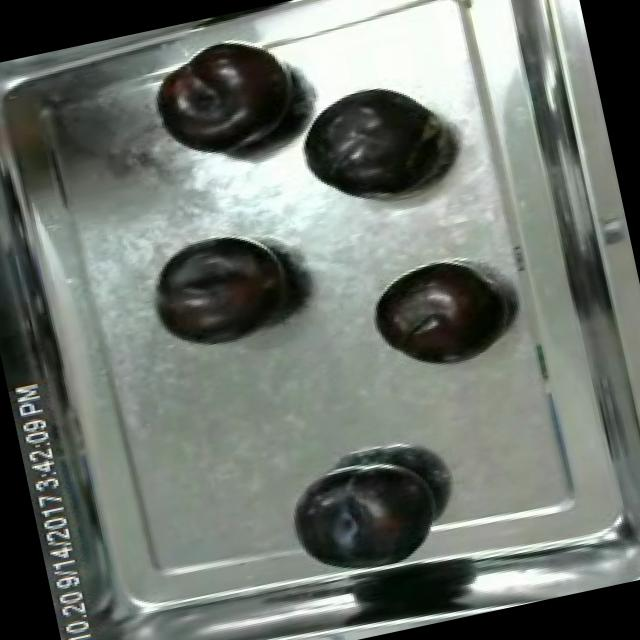Fruit: (274, 439, 454, 586), (142, 24, 313, 172), (138, 219, 310, 360), (286, 73, 449, 214), (360, 251, 512, 383)
